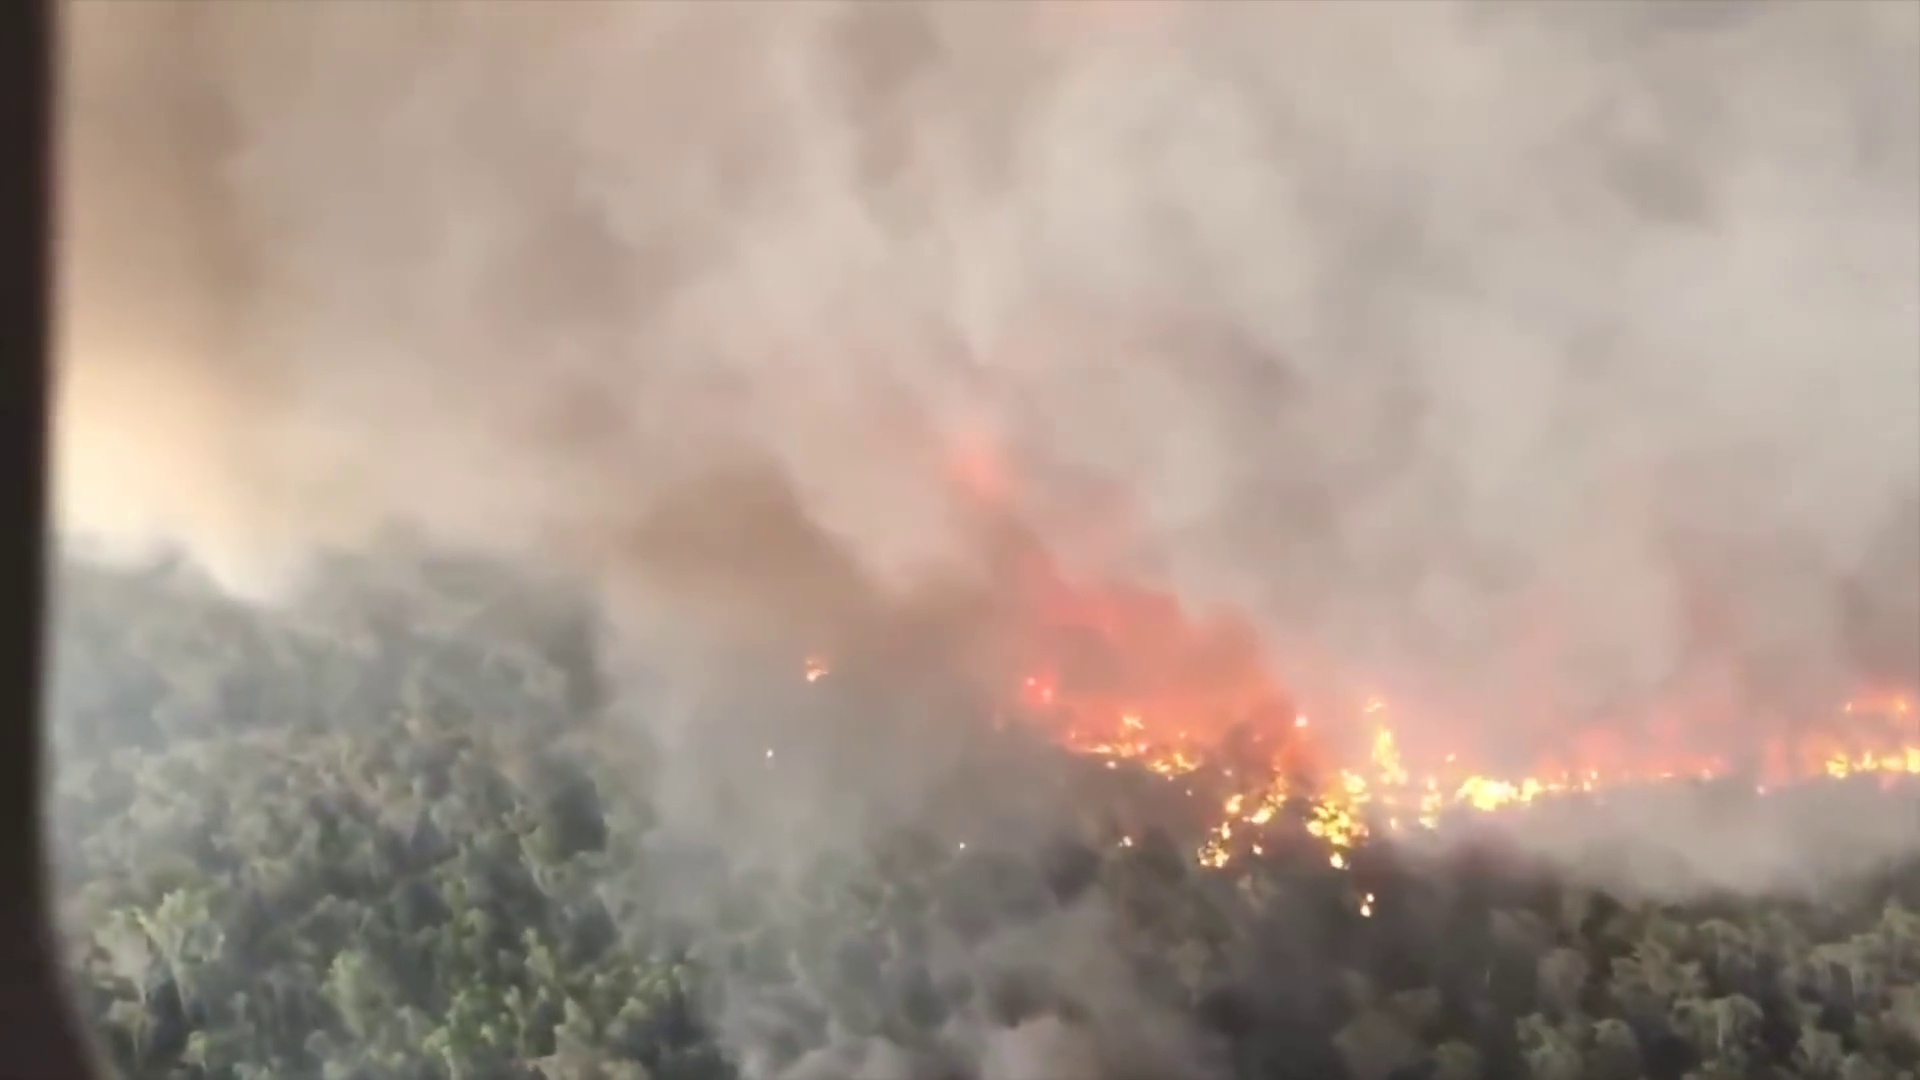fire: (1193, 717, 1445, 877), (1102, 716, 1191, 777), (1452, 775, 1571, 810), (1836, 746, 1920, 778)
